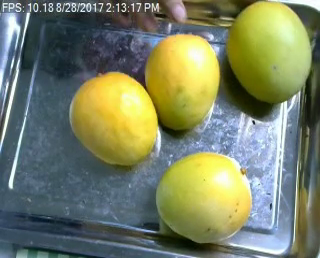Mango: (225, 1, 312, 101), (158, 152, 251, 244), (70, 70, 160, 164), (144, 33, 221, 130)
